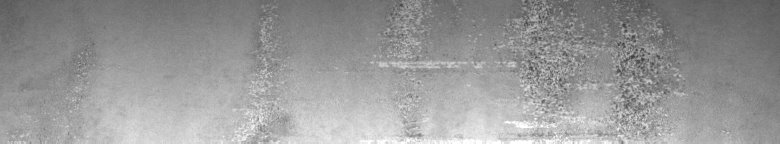hc: (498, 4, 669, 136)
